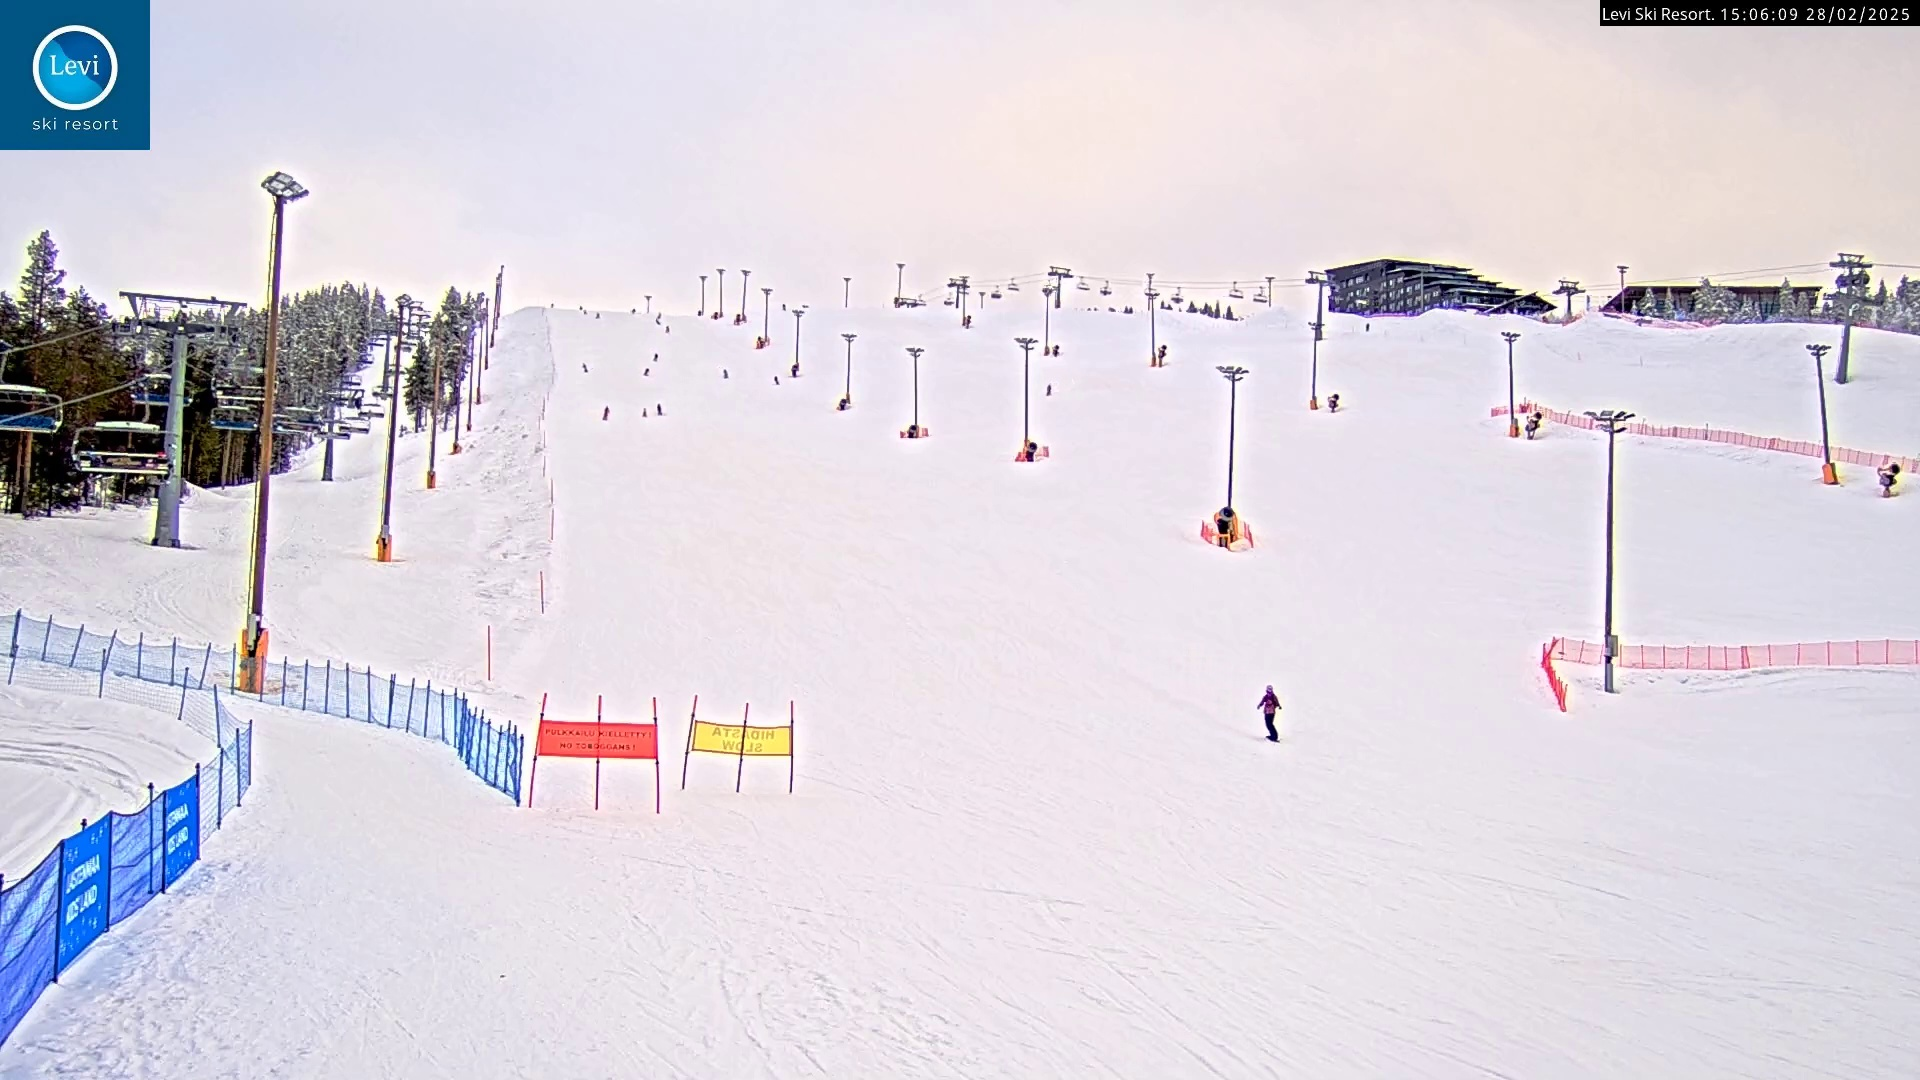snowboarder: (1257, 683, 1284, 742)
